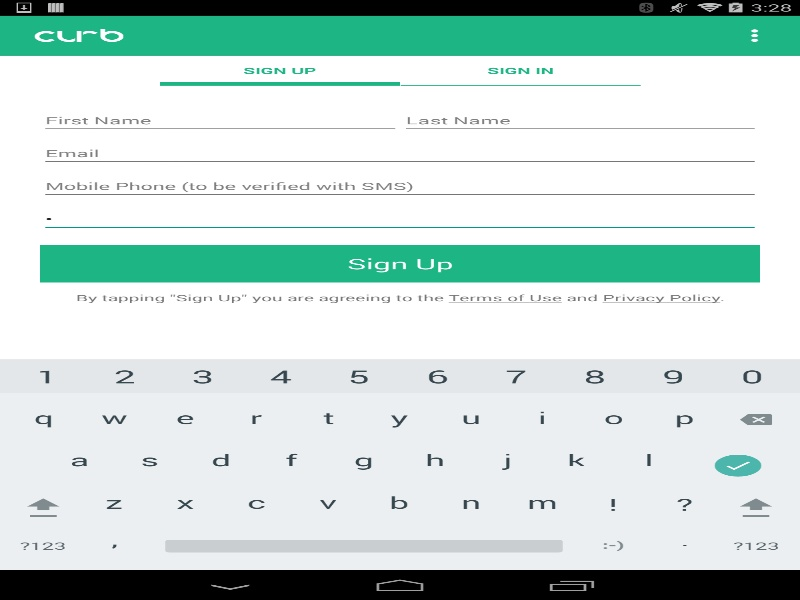Button: (40, 245, 760, 282), (666, 538, 800, 570), (0, 538, 133, 570)
Input: (40, 205, 760, 232), (40, 140, 760, 166), (40, 173, 760, 199), (40, 107, 400, 134), (400, 107, 760, 134)
